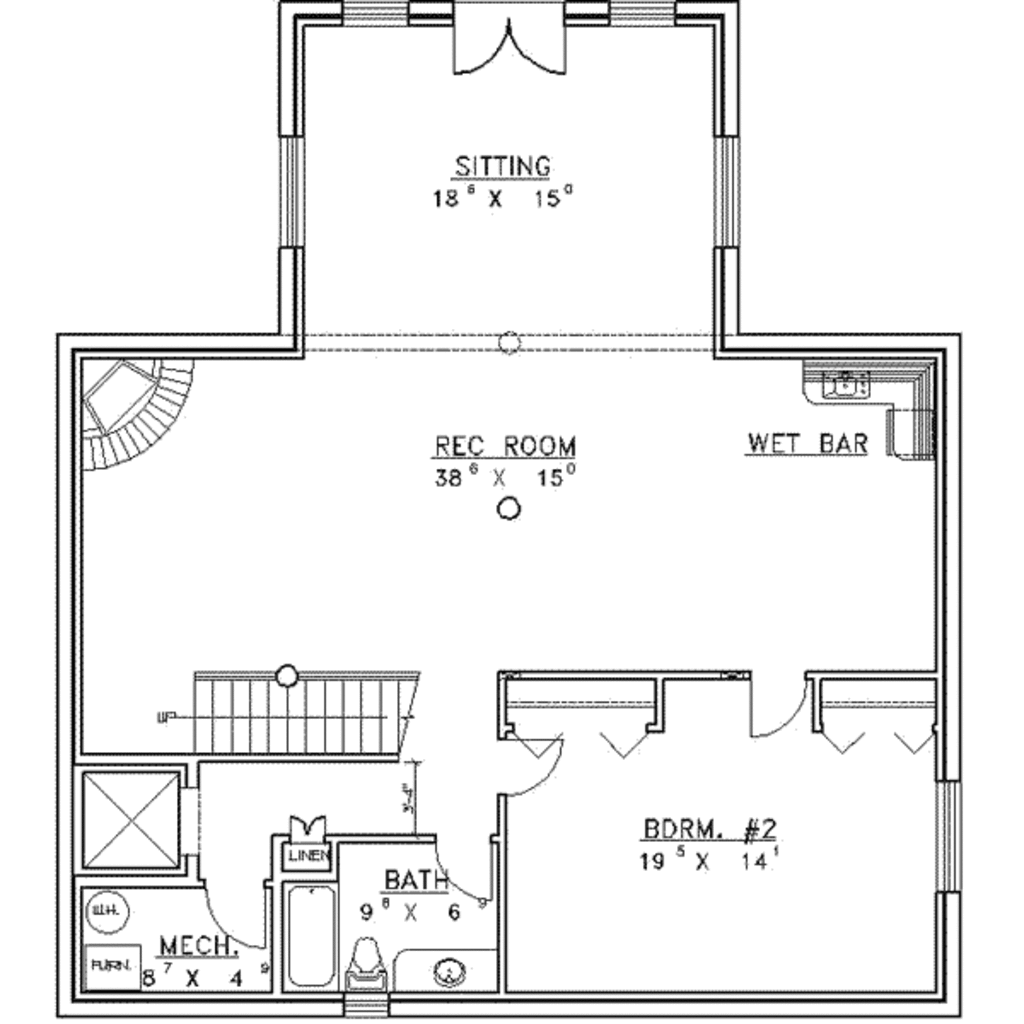door: (448, 7, 566, 85), (197, 872, 275, 950), (497, 732, 568, 801), (742, 668, 811, 738)
large_sink: (348, 925, 391, 996)
small_sink: (391, 946, 500, 989)
stairs: (169, 658, 444, 771)
tub: (288, 883, 341, 992)
window: (713, 133, 744, 249), (941, 778, 969, 896), (280, 136, 305, 244), (338, 2, 413, 33), (609, 3, 673, 24)
